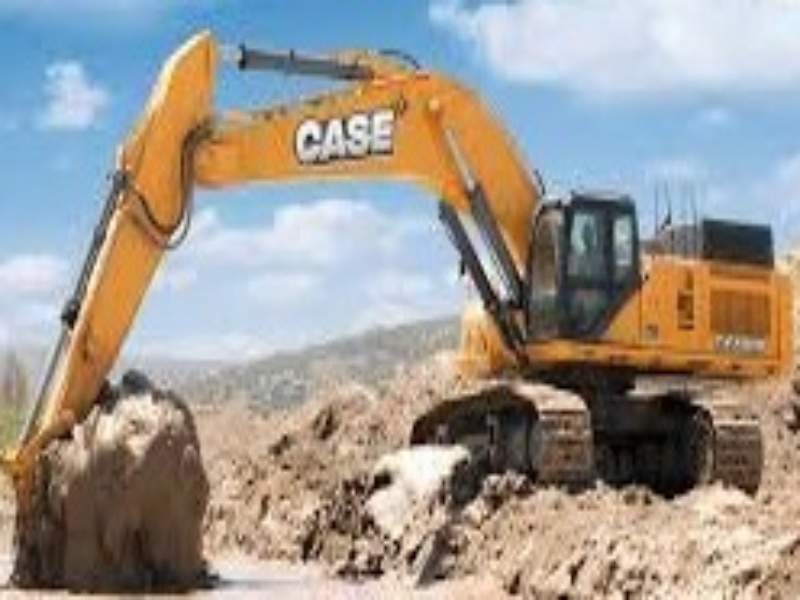wajueji: (355, 105, 800, 516)
